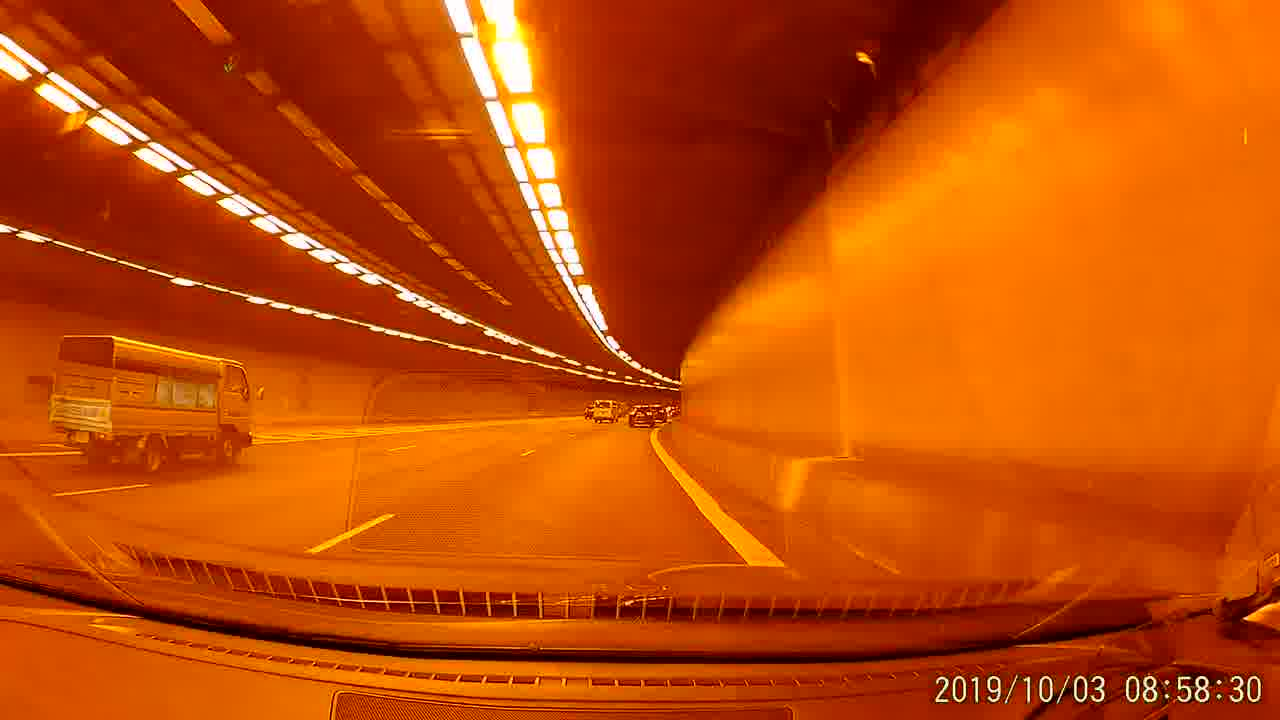car: (625, 402, 656, 428), (647, 401, 668, 424)
